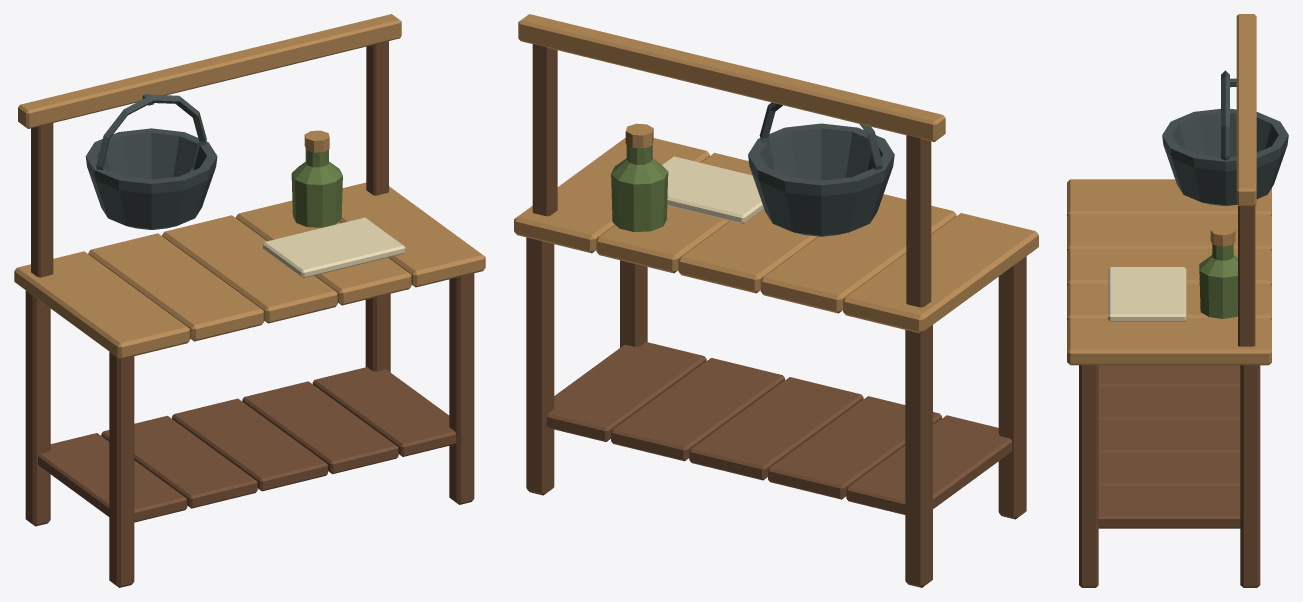
Rendered from 02_Field_Kitchen.glb.
3 views of the same model, side by side, from view 1: azimuth 30°, elevation 25°; view 2: azimuth 150°, elevation 25°; view 3: azimuth 270°, elevation 25° (orthographic). The views are drawn at different scales.
Visible parts, largest first — view 1: 02_Field_Kitchen__Body; view 2: 02_Field_Kitchen__Body; view 3: 02_Field_Kitchen__Body.
Part boxes in pixels (bbox=[...]): 02_Field_Kitchen__Body: bbox=[14, 14, 485, 587]; 02_Field_Kitchen__Body: bbox=[514, 14, 1038, 587]; 02_Field_Kitchen__Body: bbox=[1067, 14, 1288, 587].
Size of the model in its own units: 3.36 by 3.59 by 1.78.
1 material, 1 textured.
